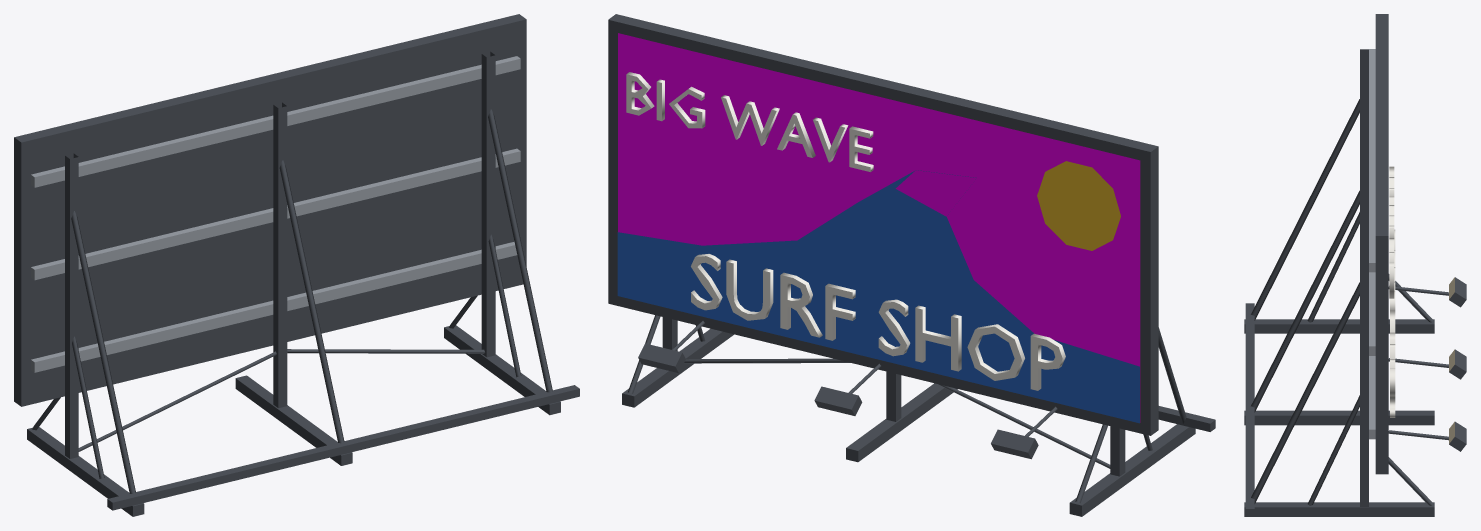
Rendered from roof_billboard_b.glb.
3 views of the same model, side by side, from view 1: azimuth 30°, elevation 25°; view 2: azimuth 150°, elevation 25°; view 3: azimuth 270°, elevation 25° (orthographic). The views are drawn at different scales.
Parts seen in each view (by area): view 1: roof_billboard_b__mesh; view 2: roof_billboard_b__mesh; view 3: roof_billboard_b__mesh.
Part boxes in pixels (x1,y1,x2,y2): roof_billboard_b__mesh: (14, 14, 579, 516); roof_billboard_b__mesh: (608, 14, 1215, 516); roof_billboard_b__mesh: (1244, 14, 1466, 516).
Bounding box in the file's own units: 8 × 5 × 3.39.
Materials: 1 (1 with a texture image).
